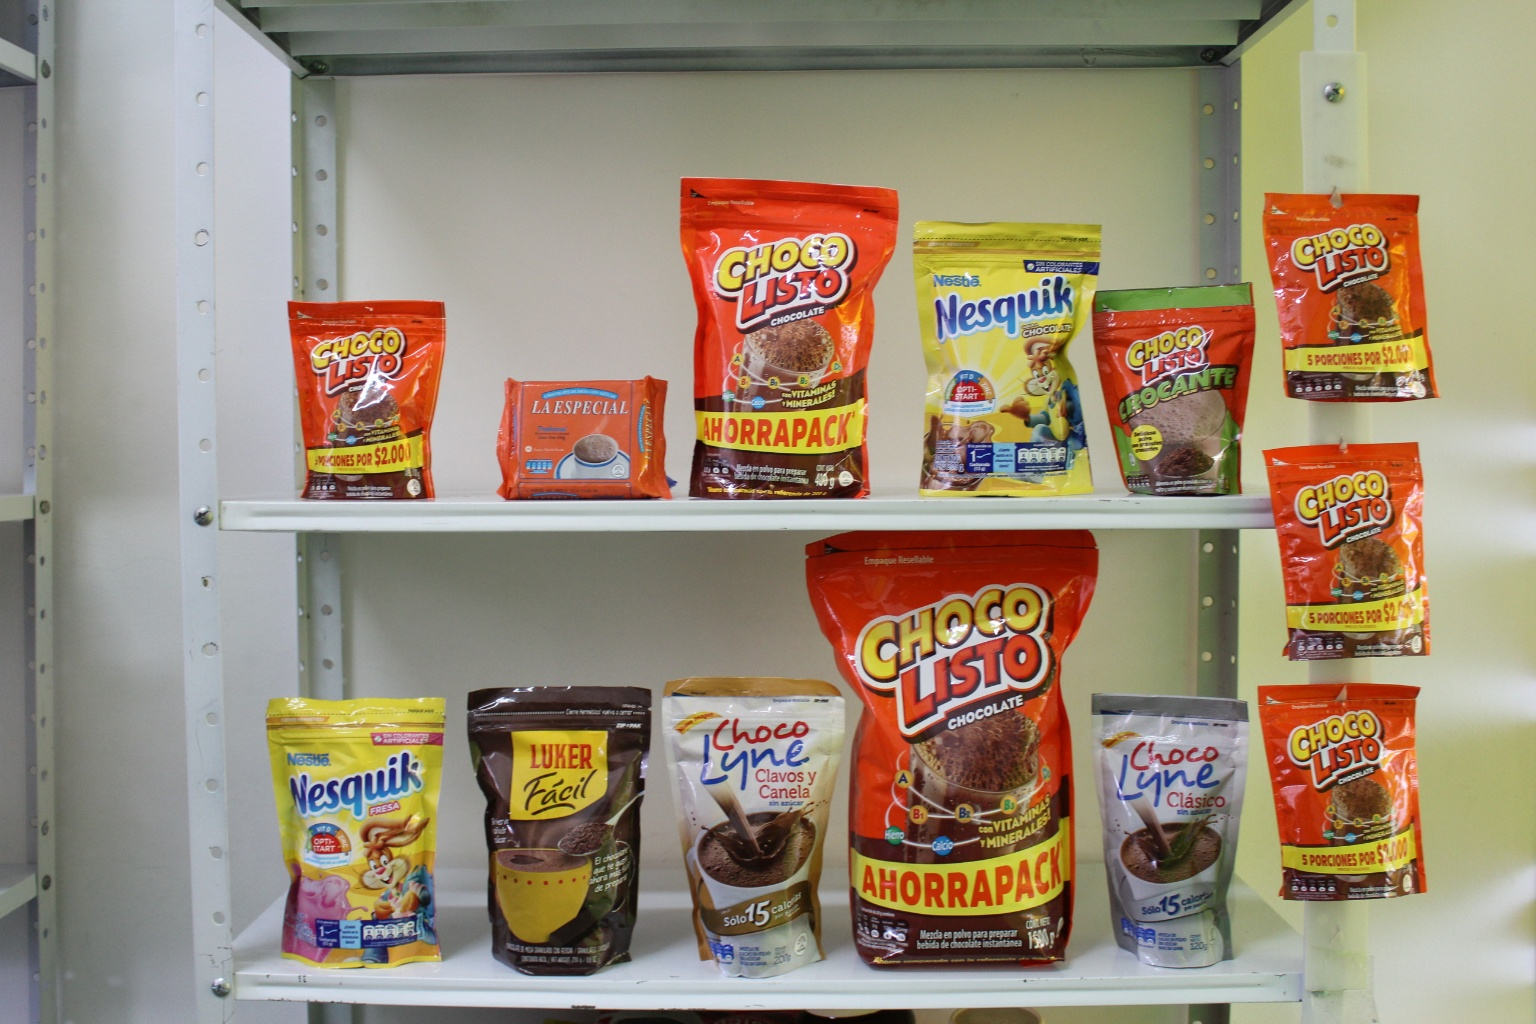COL0170102DYP10000: (1104, 274, 1267, 502)
COL0170103DYP1,500: (809, 536, 1096, 967)
COL0170103DYP10000: (1253, 680, 1443, 901)
COL0170103DYP40000: (675, 166, 907, 498)
COL0170303DYP20000: (912, 216, 1103, 503)
COL0170305DYP20000: (265, 696, 453, 970)
